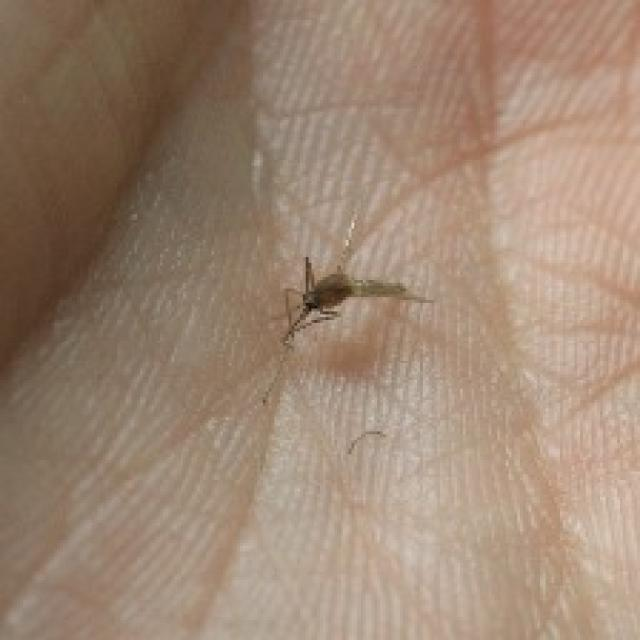culex: (277, 208, 434, 346)
